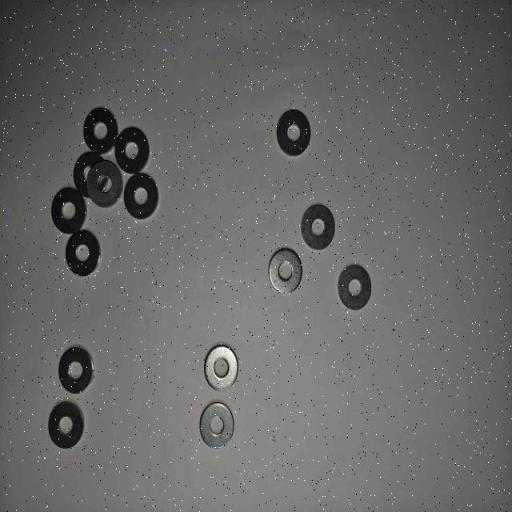washer: (48, 401, 85, 449), (86, 160, 123, 208), (58, 346, 94, 394), (66, 230, 102, 278), (114, 127, 150, 175), (51, 188, 87, 234), (84, 106, 118, 154), (337, 264, 372, 310), (204, 346, 239, 392), (124, 173, 158, 220), (277, 109, 311, 156), (200, 402, 234, 449), (301, 204, 335, 250), (268, 248, 302, 294), (74, 152, 106, 198)
